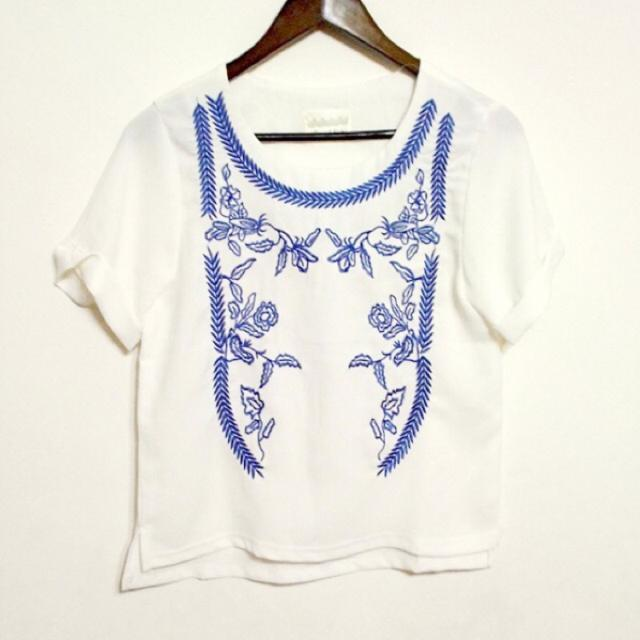Tops: (52, 53, 561, 592)
